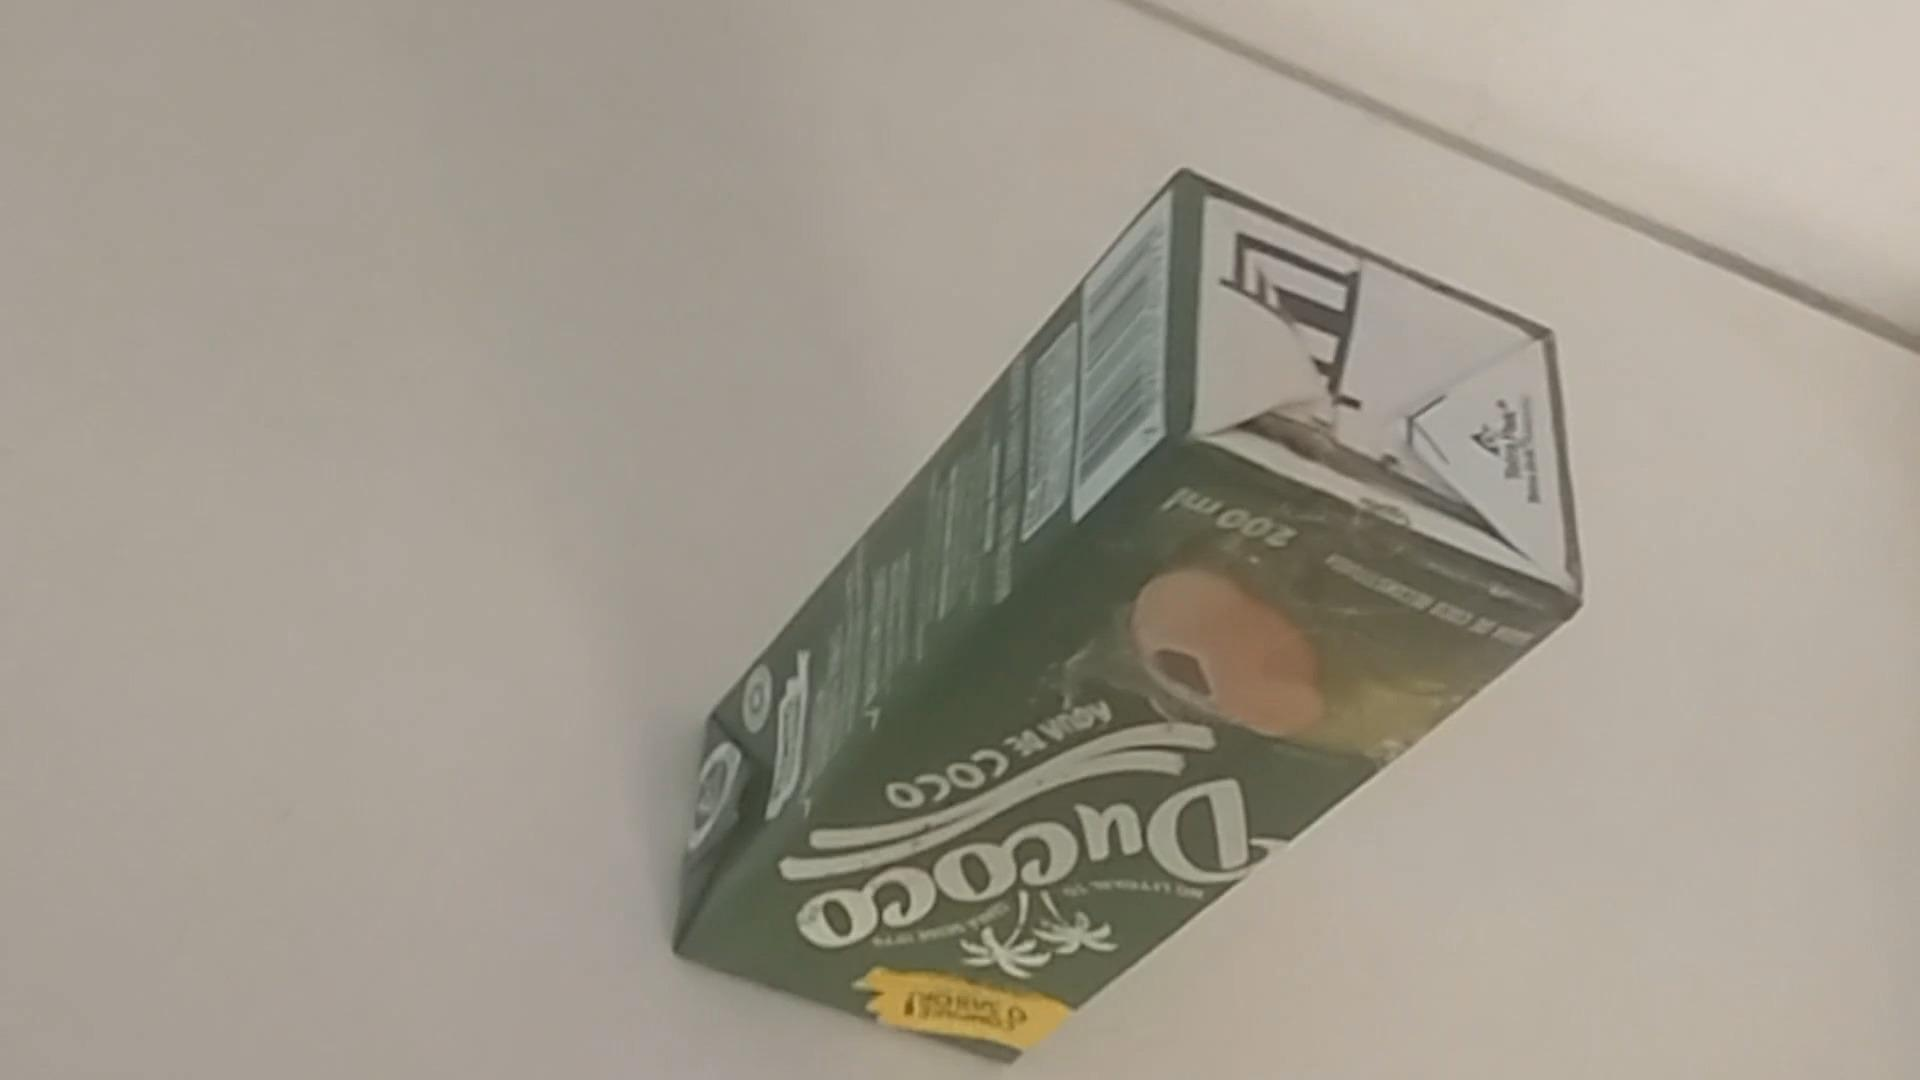coco: (667, 170, 1580, 1068)
